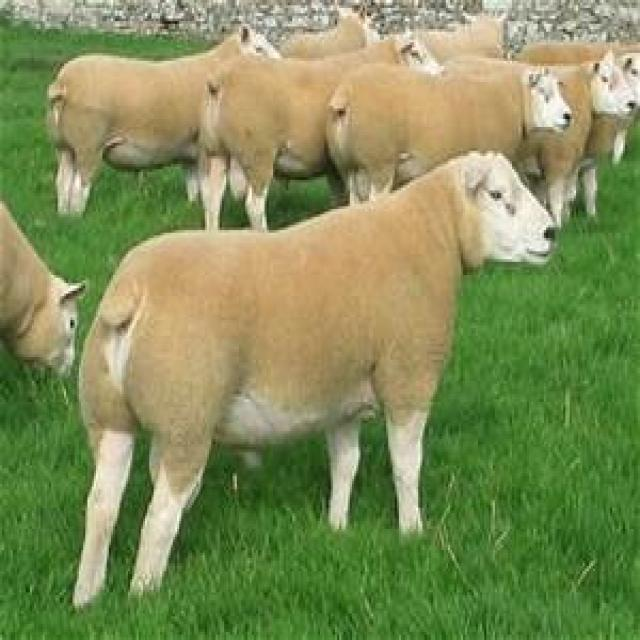sheep: (74, 156, 558, 604), (327, 70, 570, 206)
